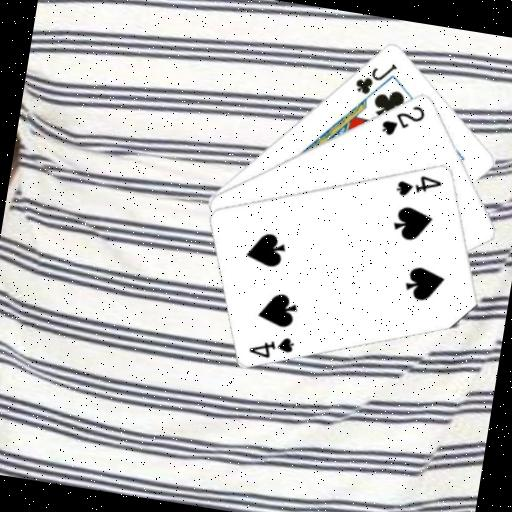2S: (377, 96, 428, 141)
4S: (392, 168, 445, 203), (244, 328, 297, 363)
JC: (350, 54, 399, 100)
